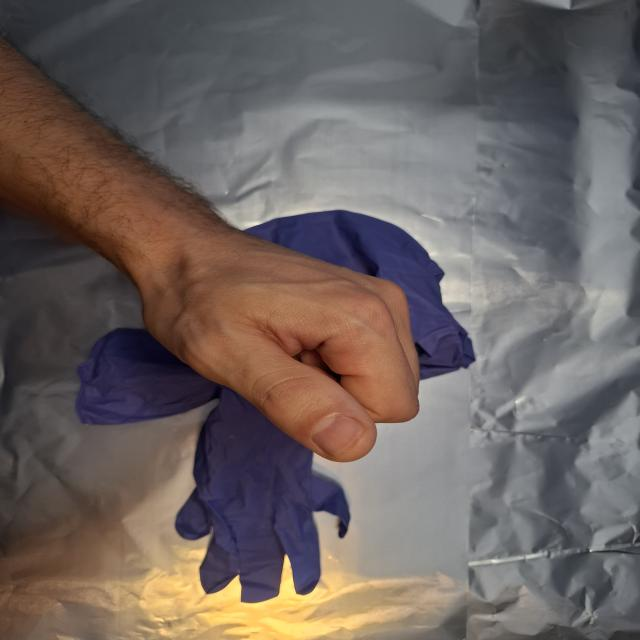glove_off: (125, 216, 424, 464)
